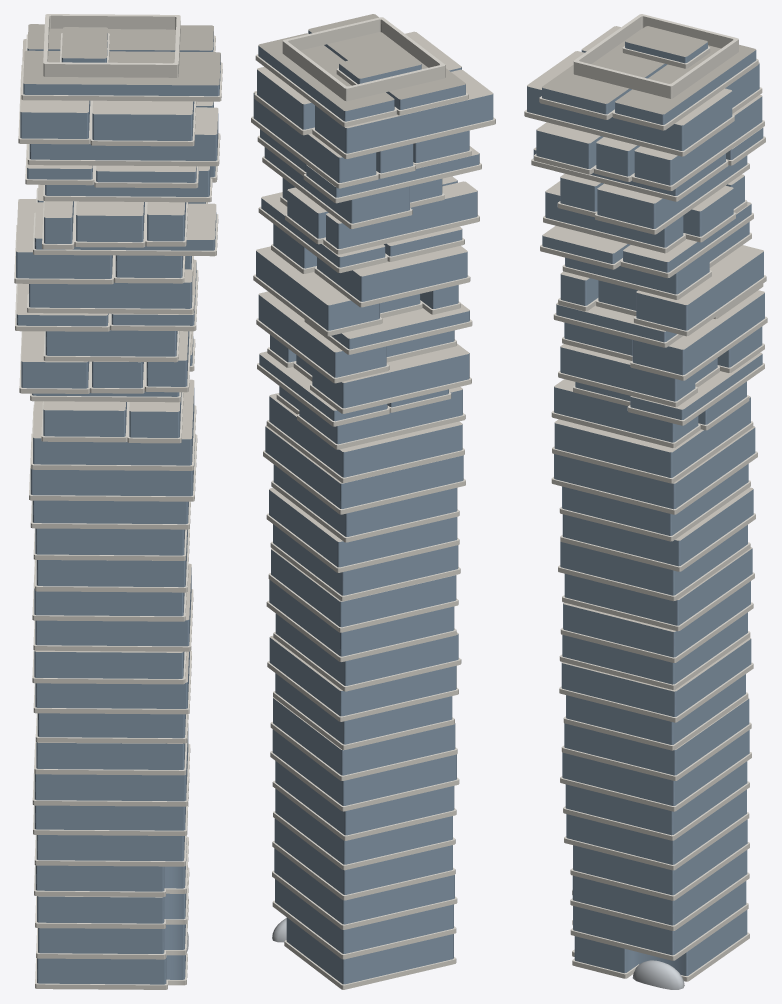
The model's file is detail.glb.
The picture shows the model from 3 angles, left to right: view 1: azimuth 30°, elevation 25°; view 2: azimuth 150°, elevation 25°; view 3: azimuth 270°, elevation 25°; orthographic projection. The views are drawn at different scales.
Visible parts, largest first — view 1: 56-leonard-street; view 2: 56-leonard-street; view 3: 56-leonard-street.
Boxes of the visible parts, x1,y1,x2,y2 form: 56-leonard-street: (14, 14, 222, 989); 56-leonard-street: (251, 14, 495, 989); 56-leonard-street: (524, 14, 767, 989).
Bounding box in the file's own units: 63.17 × 250 × 61.22.
